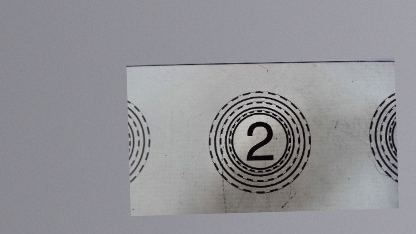2r: (205, 88, 312, 195)
